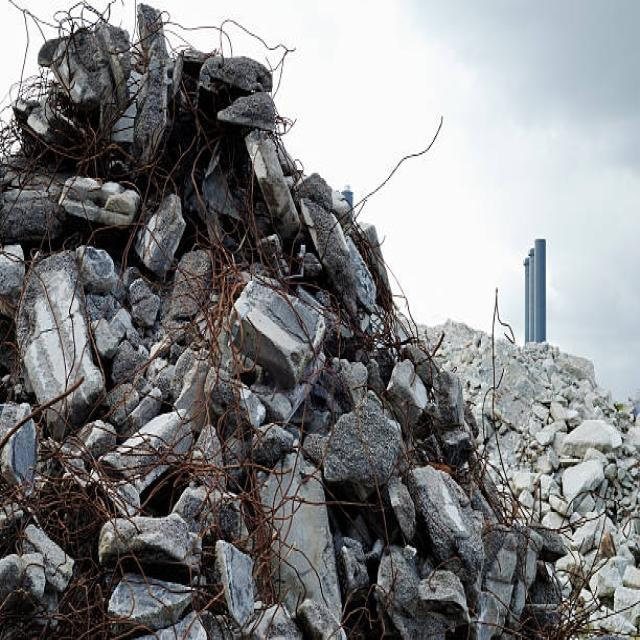trash: (25, 39, 628, 603)
